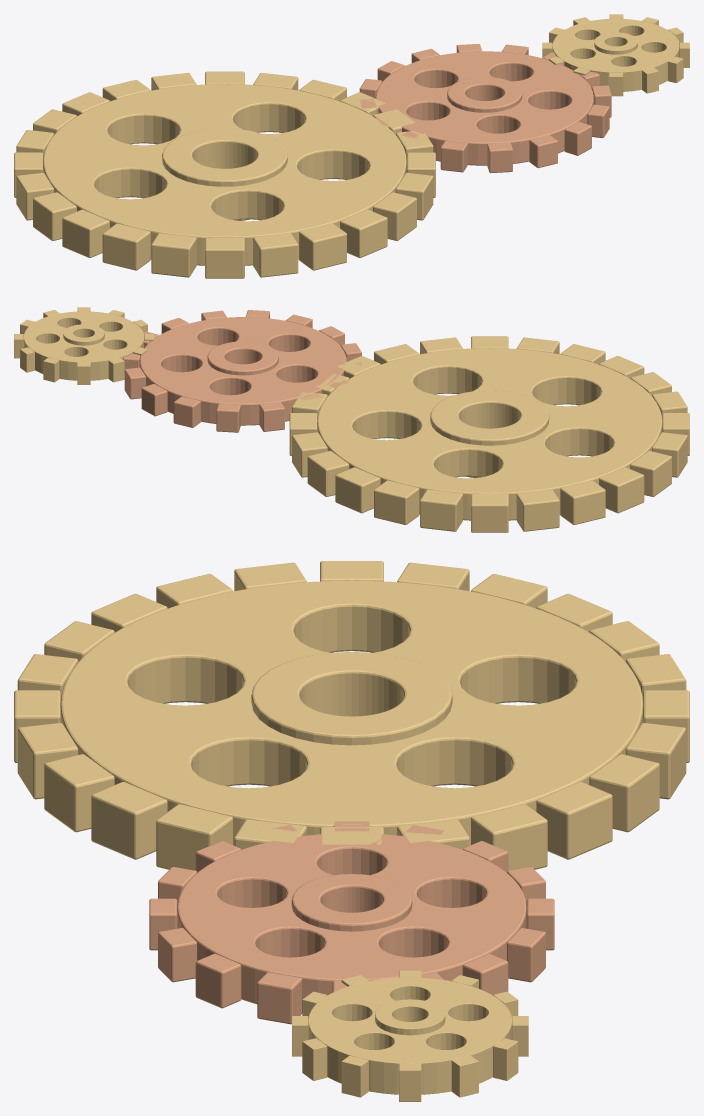
The model's file is gear_set.glb.
The picture shows the model from 3 angles, top to bottom: view 1: azimuth 30°, elevation 25°; view 2: azimuth 150°, elevation 25°; view 3: azimuth 270°, elevation 25°; orthographic projection. The views are drawn at different scales.
Visible parts, largest first — view 1: gear_big, gear_mid, gear_small; view 2: gear_big, gear_mid, gear_small; view 3: gear_big, gear_mid, gear_small.
Boxes of the visible parts, left/top/right/bottom form: gear_big: left=14, top=71, right=435, bottom=278; gear_mid: left=359, top=44, right=611, bottom=173; gear_small: left=542, top=14, right=689, bottom=96; gear_big: left=289, top=336, right=689, bottom=532; gear_mid: left=123, top=310, right=362, bottom=432; gear_small: left=14, top=307, right=153, bottom=384; gear_big: left=14, top=561, right=689, bottom=870; gear_mid: left=149, top=821, right=554, bottom=1024; gear_small: left=292, top=970, right=528, bottom=1101.
Bounding box in the file's own units: 4.17 × 0.252 × 2.32.
